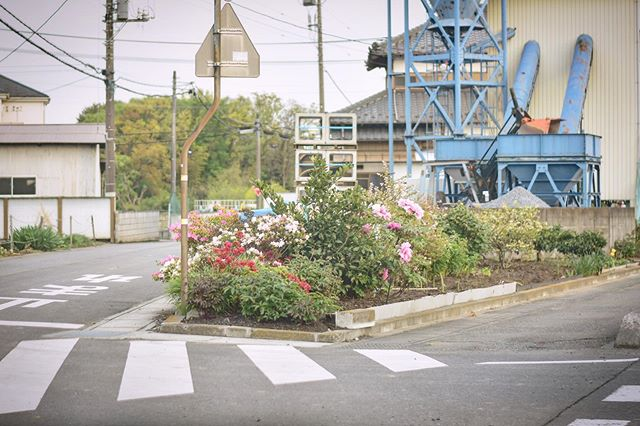building: (351, 1, 640, 193), (1, 75, 113, 233)
crosswalk: (1, 314, 459, 426)
street: (1, 308, 640, 426), (1, 242, 193, 383)
vegetation: (181, 177, 571, 318), (98, 99, 289, 210)
